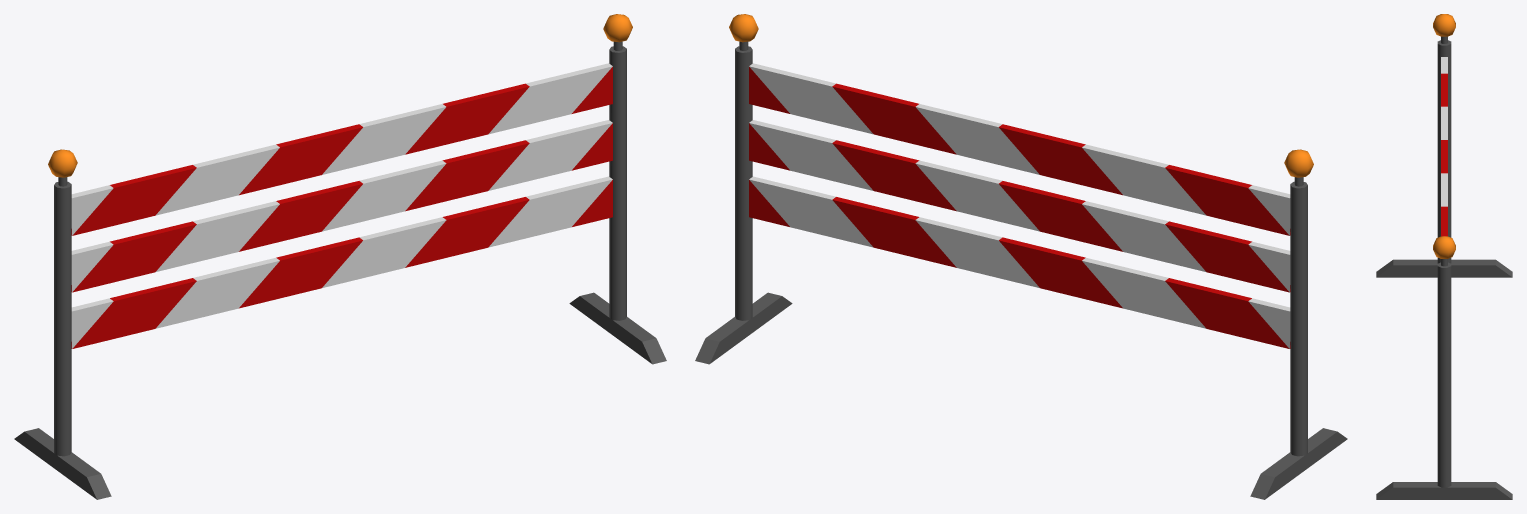
The model's file is Barrier_free.fbx.
3 renders of one model, left to right at view 1: azimuth 30°, elevation 25°; view 2: azimuth 150°, elevation 25°; view 3: azimuth 270°, elevation 25°, orthographic. The views are drawn at different scales.
Parts seen in each view (by area): view 1: Barrier_free; view 2: Barrier_free; view 3: Barrier_free.
Boxes of the visible parts, x1,y1,x2,y2 form: Barrier_free: (14, 14, 666, 499); Barrier_free: (695, 14, 1347, 499); Barrier_free: (1376, 14, 1512, 499).
Bounding box in the file's own units: 321 × 168 × 80.
